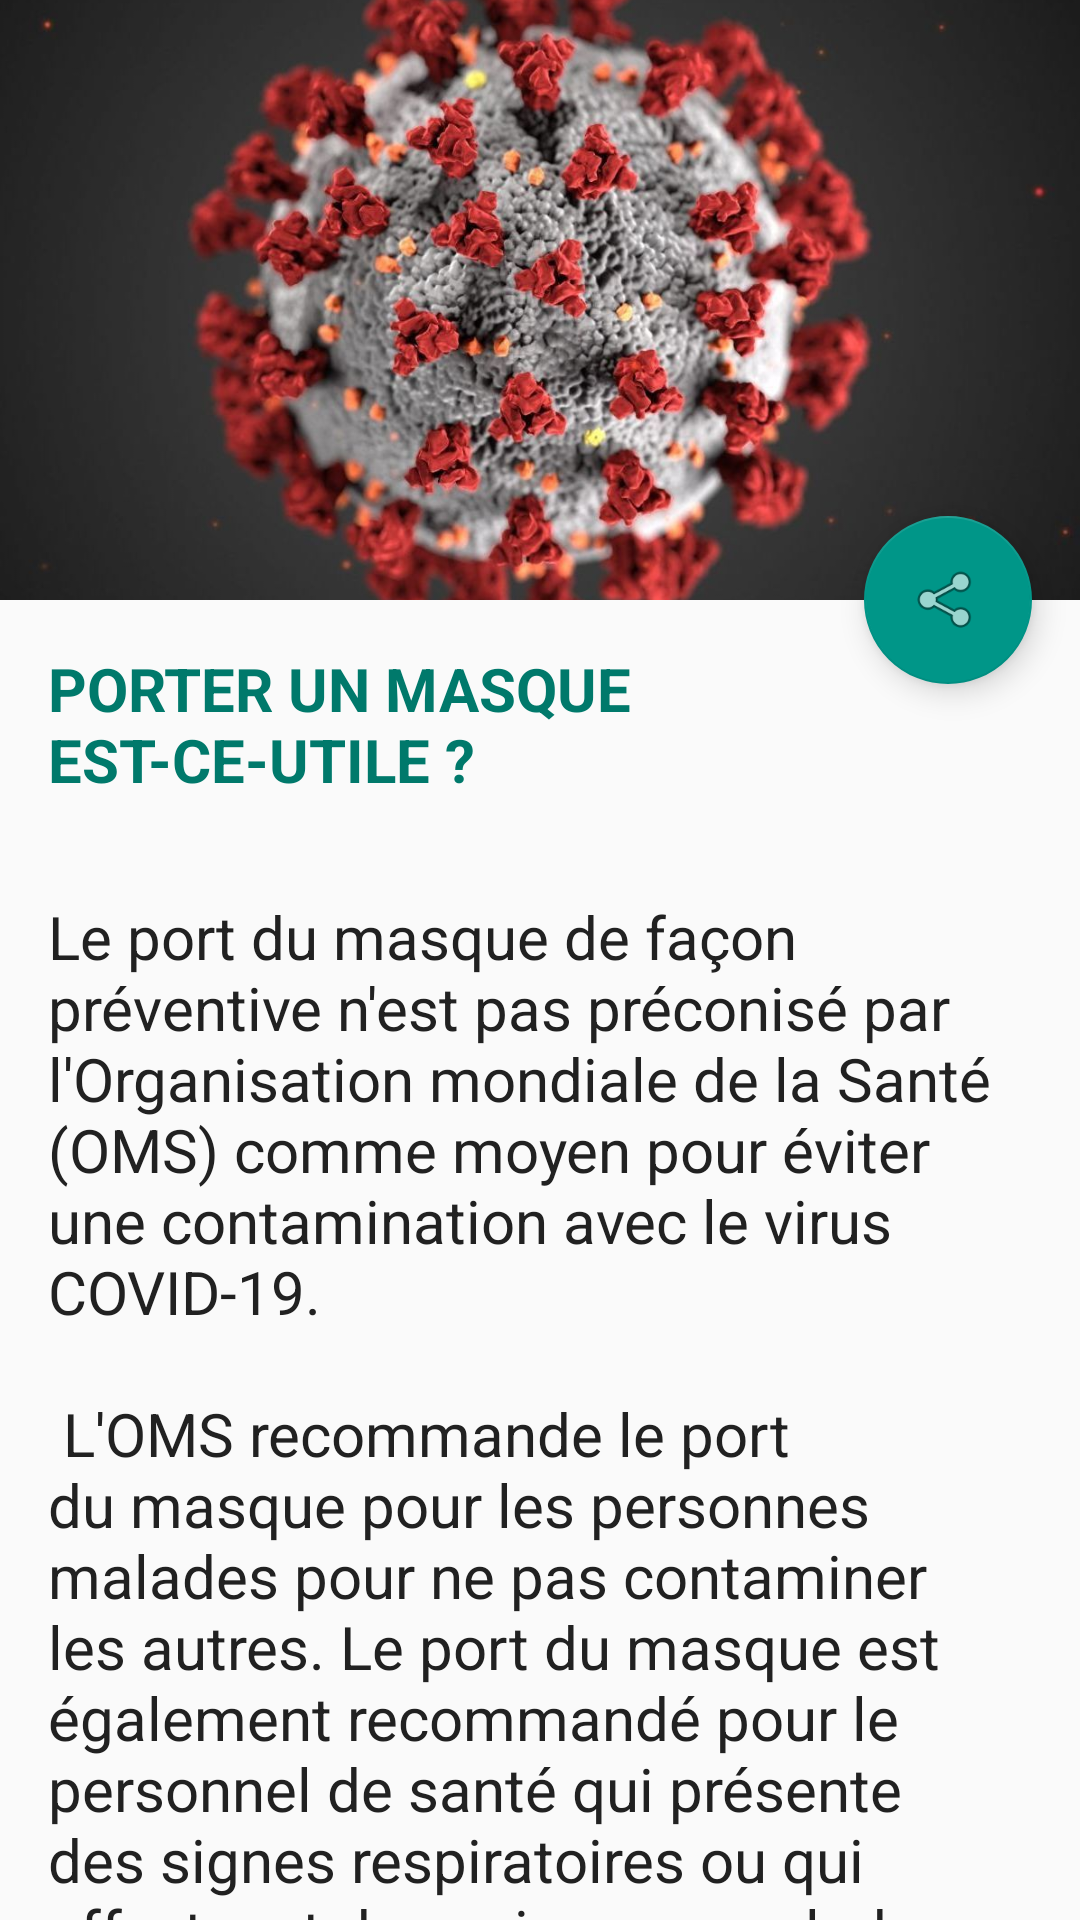

Named icons in this screenshot (1080px×1920px) and their centers, (x=x, y=y):
share: (x=948, y=600)
